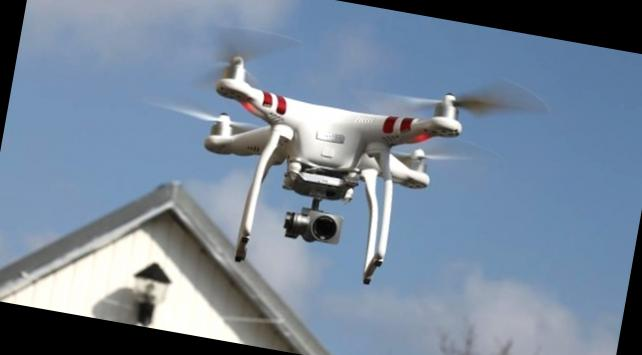drone: (135, 23, 521, 258)
